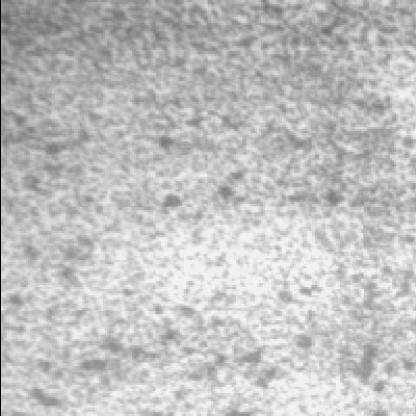pitted_surface: (27, 108, 391, 408), (4, 8, 416, 124)
